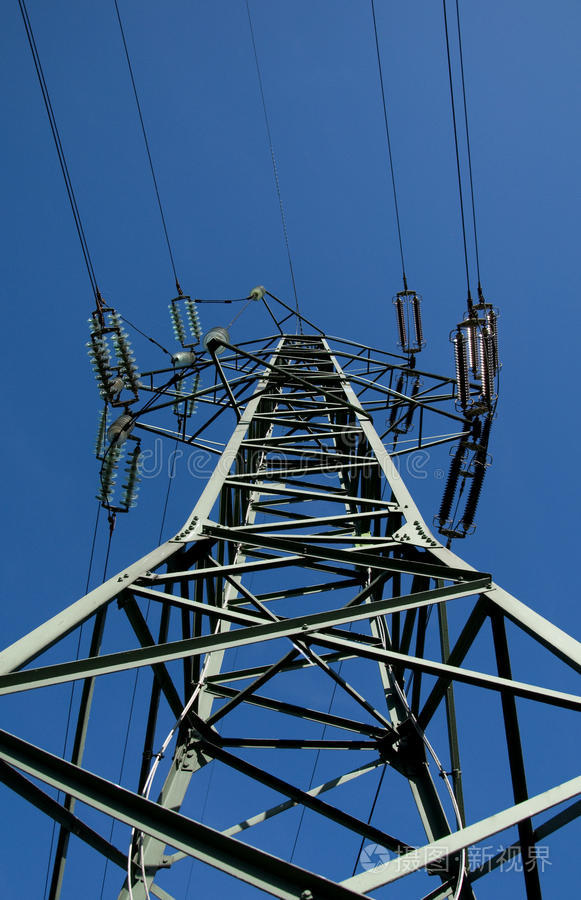insulator: (450, 305, 503, 404), (85, 311, 141, 391), (97, 441, 141, 514), (165, 297, 203, 341)
